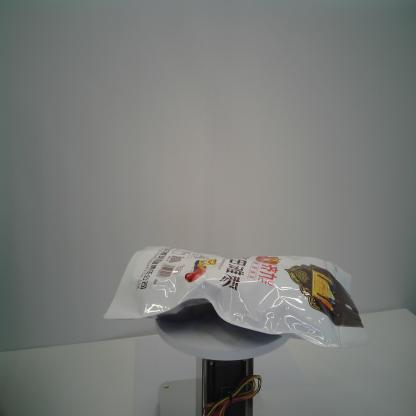Dried Food: (101, 244, 373, 353)
